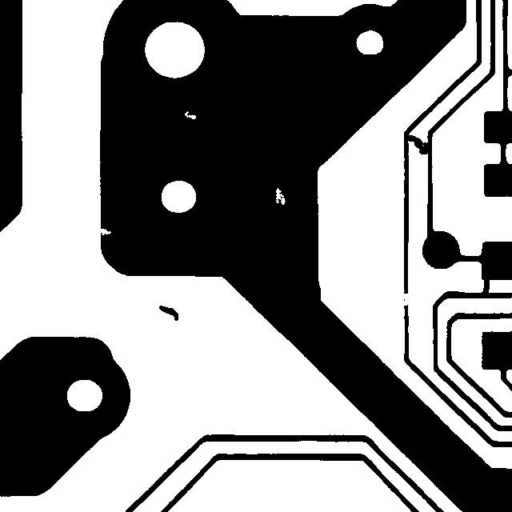copper: (151, 298, 186, 328)
mousebite: (88, 221, 118, 242)
open: (391, 286, 420, 313)
pin-hole: (268, 180, 293, 212), (177, 103, 203, 126)
short: (398, 127, 436, 162), (473, 270, 497, 304)
